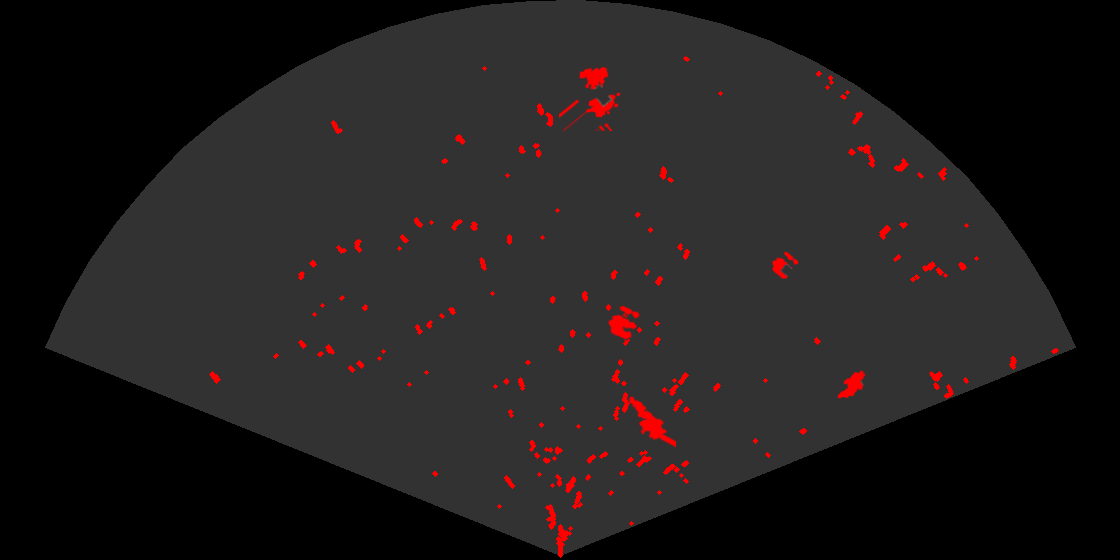AUV: (836, 369, 867, 400)
ball: (606, 304, 642, 341), (770, 250, 800, 280)
cage: (559, 65, 622, 131)
frogman: (620, 393, 676, 449)
